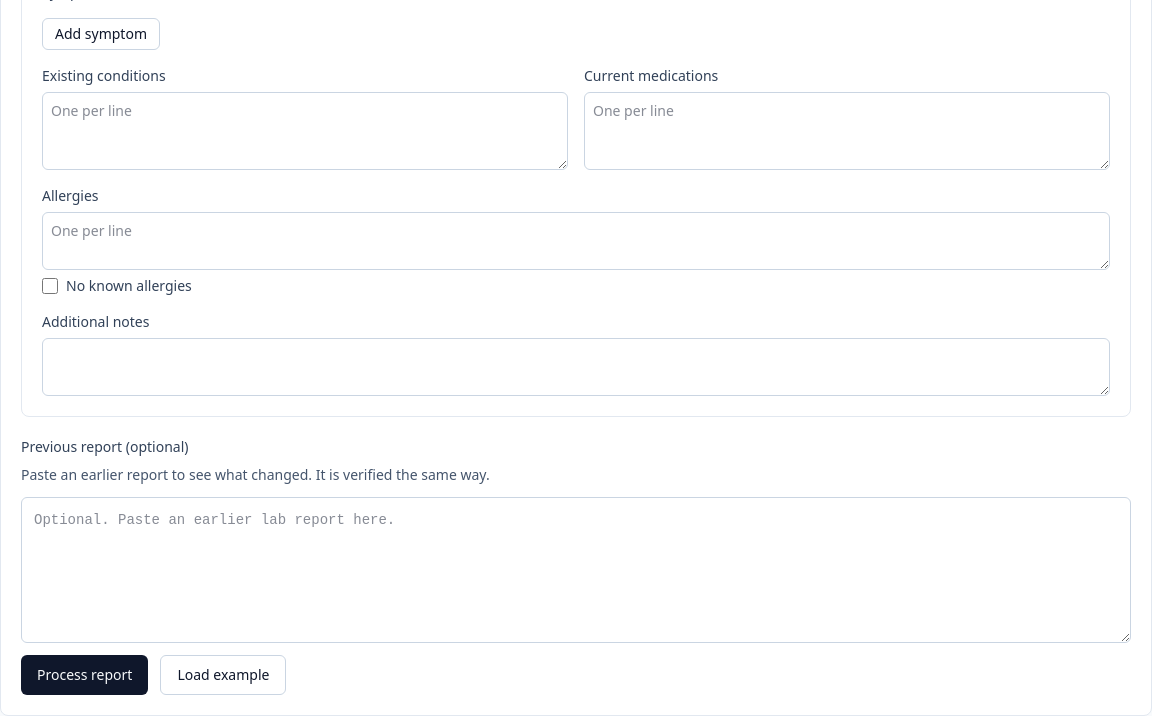
Test: ReportAnalyzer — never silently fakes a model call › says no AI was used when the server reports the pattern fallback
(page scrolled)
What coordinates should you click on to do the following:
click the button "Load example"
I would click on:
 (223, 675)
Its box is [160,655,286,695].
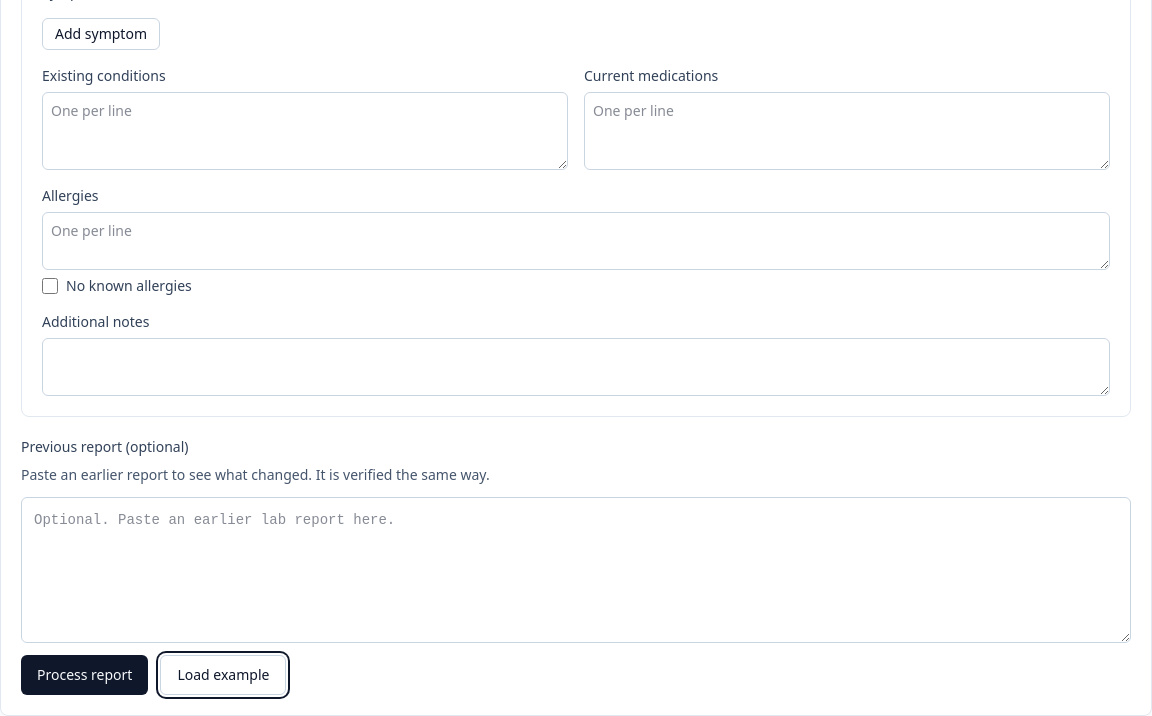
What coordinates should you click on to do the following:
click the button "Process report"
I would click on:
 (85, 675)
Its box is [21,655,148,695].
(page scrolled)
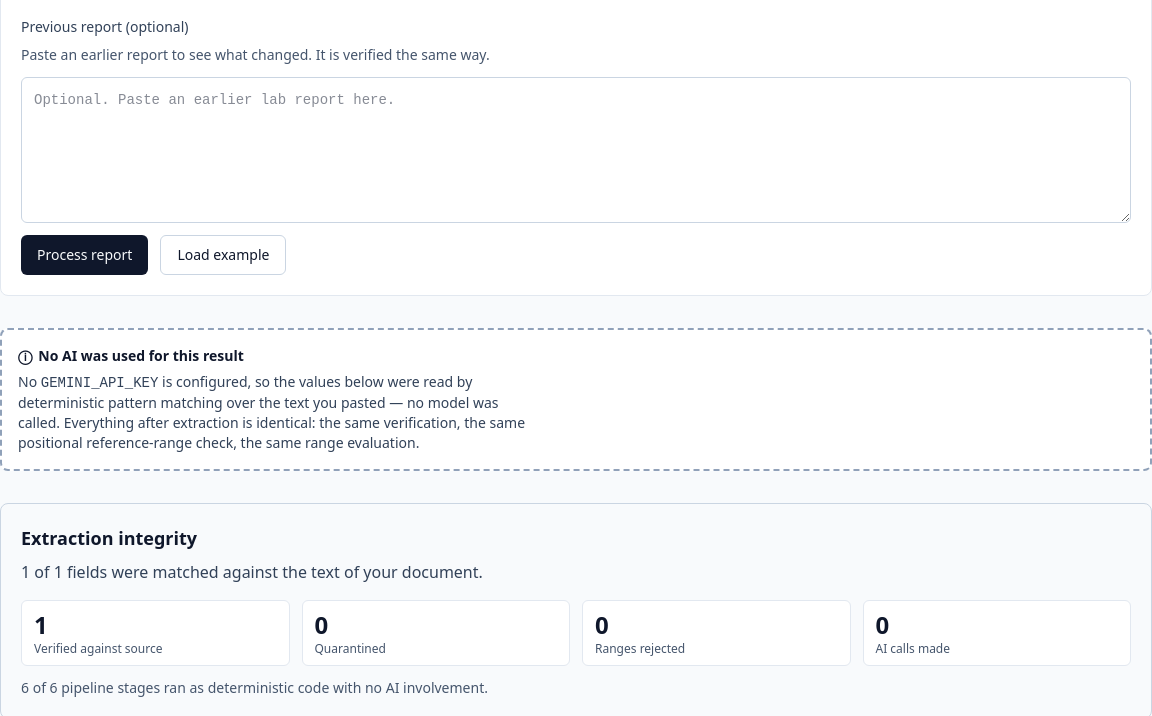
Now the heading "ⓘNo AI was used for this result" is shown, box [18,346,244,365]
